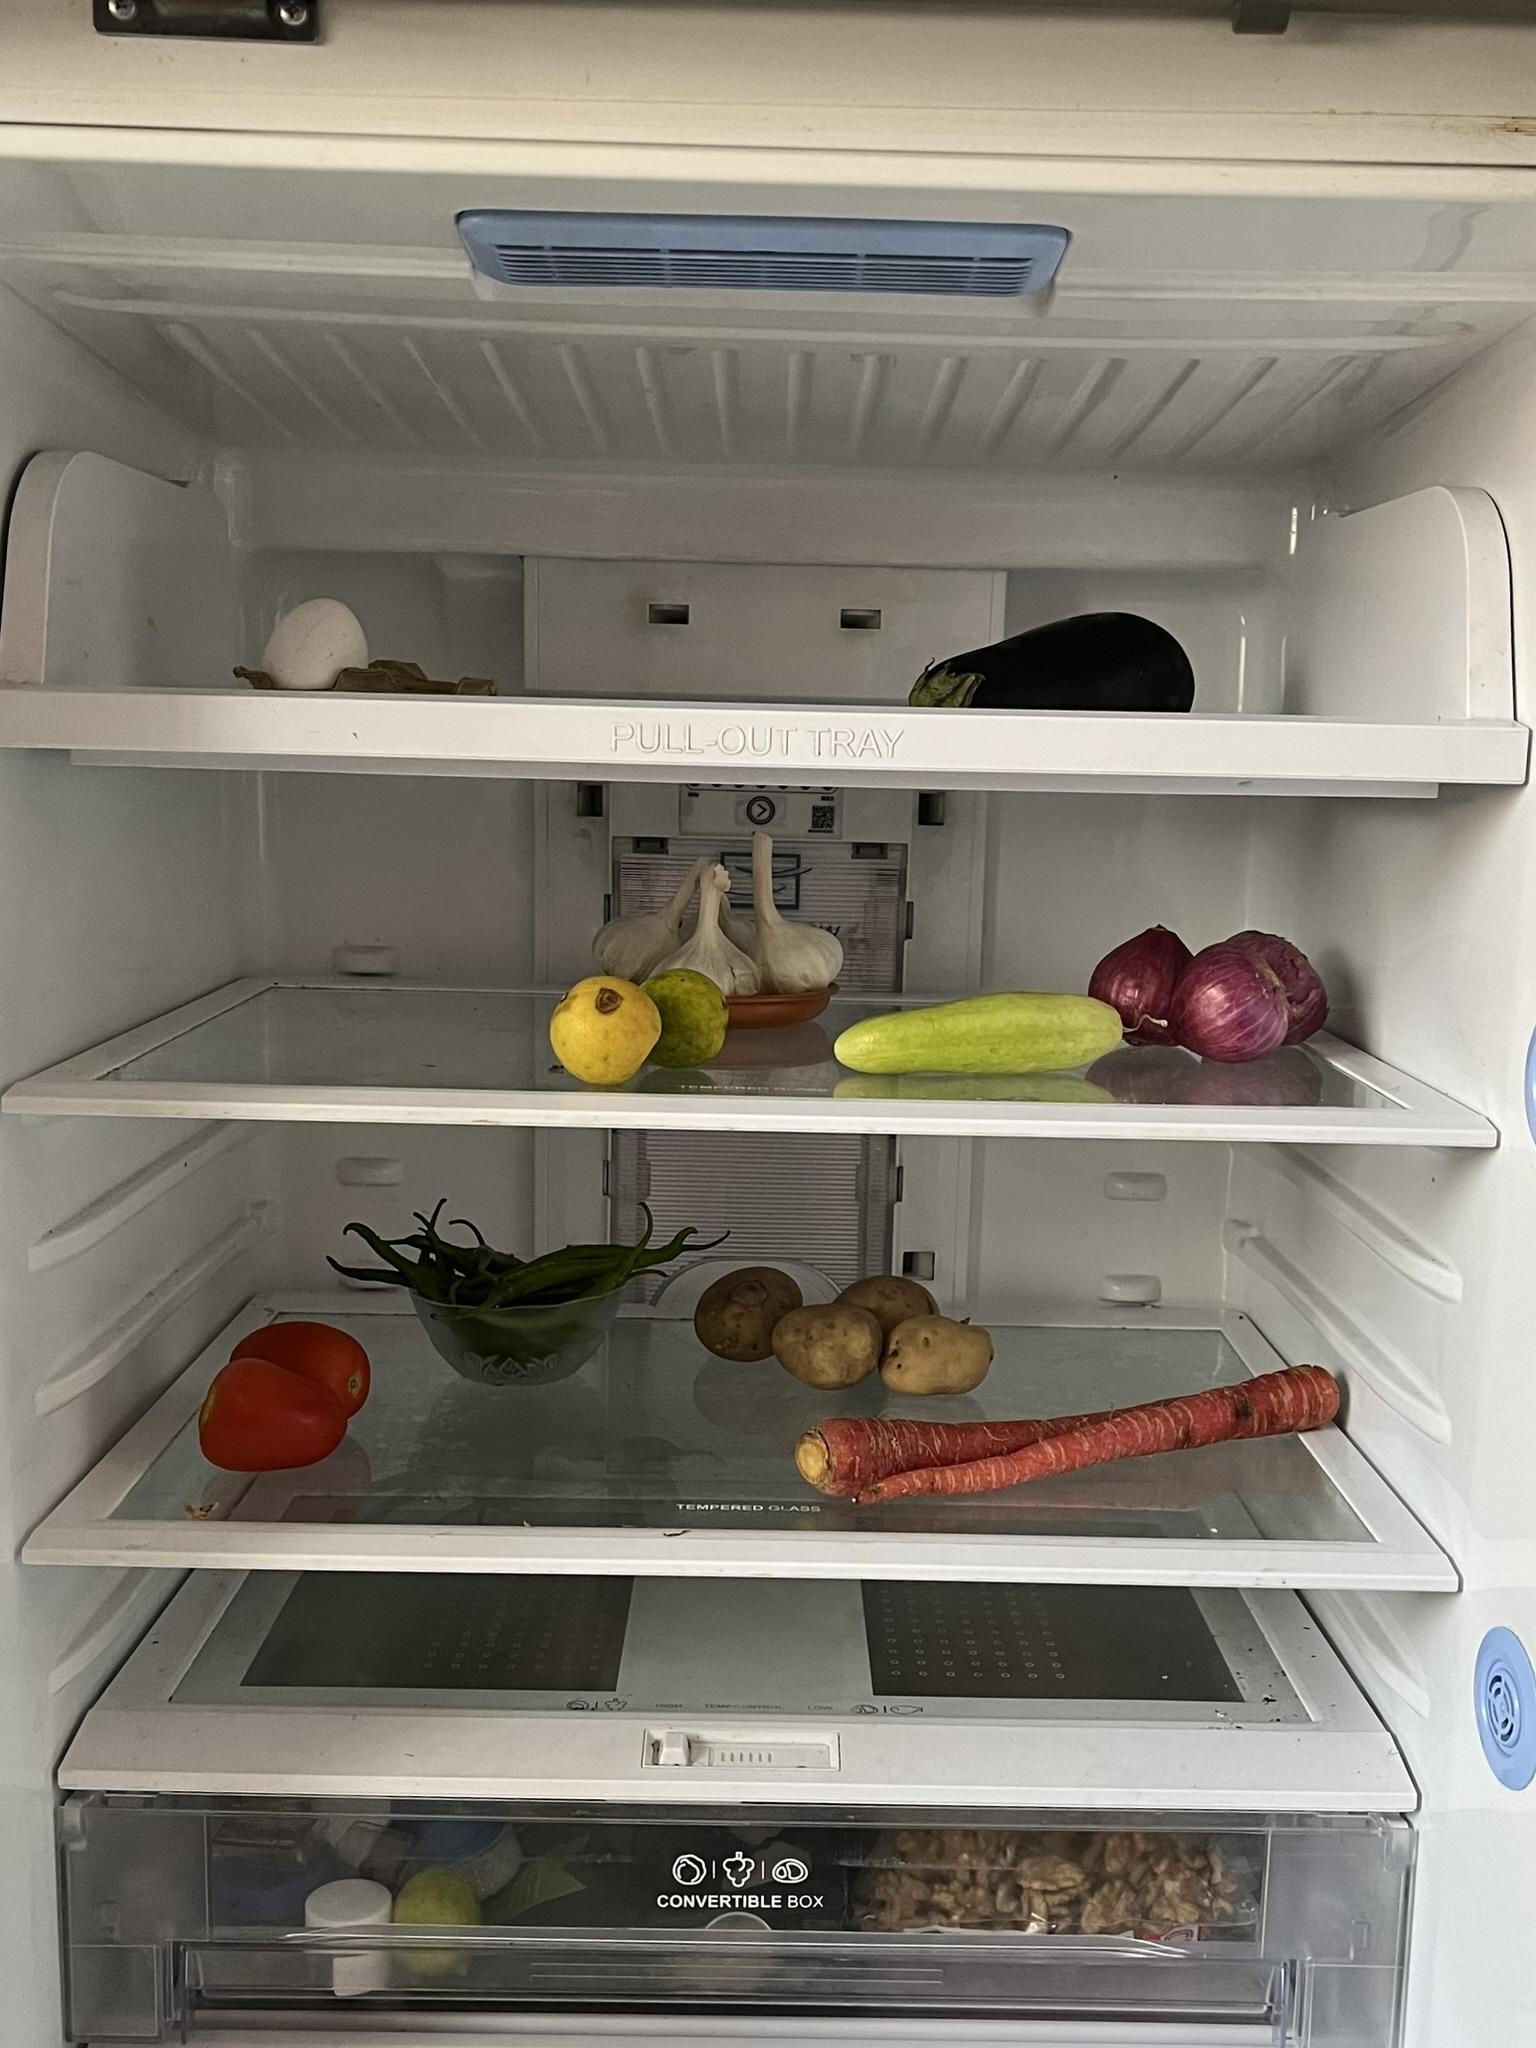bringal: (904, 600, 1207, 713)
carrots: (791, 1356, 1350, 1506)
chillies: (307, 1200, 687, 1390)
cucumber: (1087, 906, 1329, 1056), (833, 990, 1133, 1077)
egg: (247, 577, 387, 693)
potato: (697, 1256, 997, 1400)
tomato: (197, 1313, 381, 1480)
